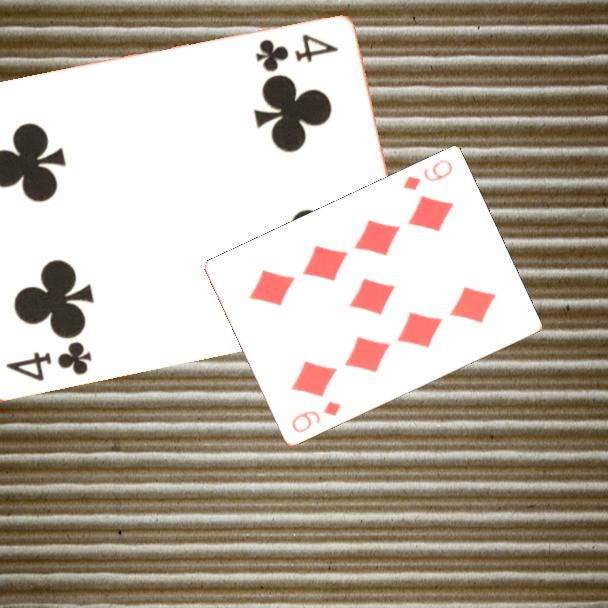c04: (2, 338, 95, 385), (252, 31, 341, 74)
d09: (288, 398, 344, 436), (399, 156, 455, 194)
